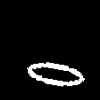chain: (27, 62, 84, 85)
